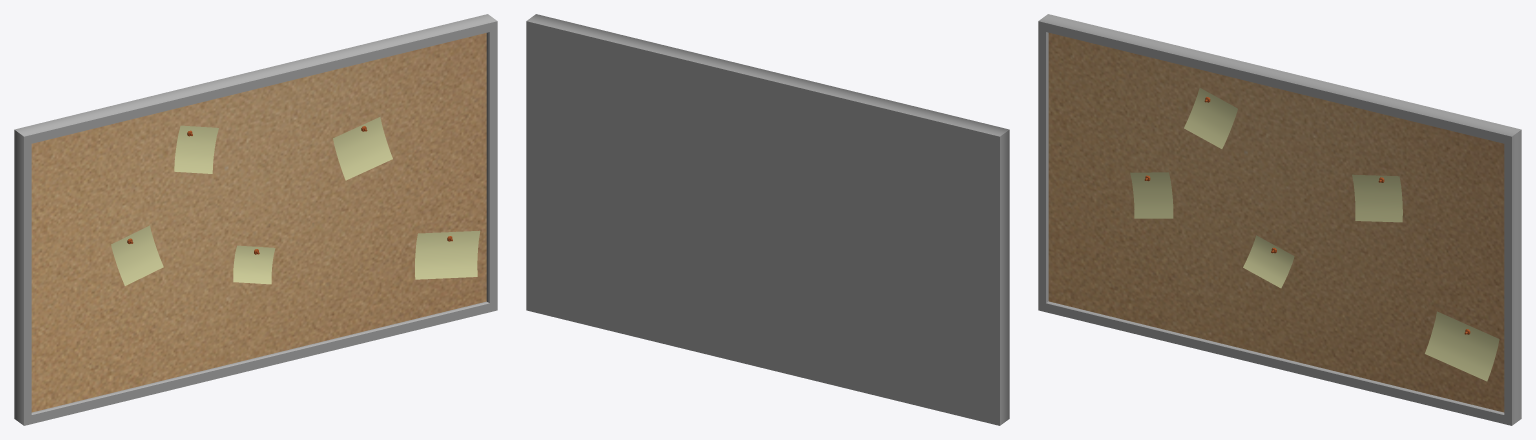
Rendered from Lavagnetta.fbx.
3 views of the same model, side by side, from view 1: azimuth 30°, elevation 25°; view 2: azimuth 150°, elevation 25°; view 3: azimuth 330°, elevation 25° (orthographic).
Visible parts, largest first — view 1: pCube6; view 2: pCube6; view 3: pCube6.
Boxes of the visible parts, box(x1,y1,x2,y2) form: pCube6: box(14, 14, 497, 425); pCube6: box(526, 14, 1009, 425); pCube6: box(1038, 14, 1521, 425).
Bounding box in the file's own units: 11.84 × 6.91 × 0.5264.
